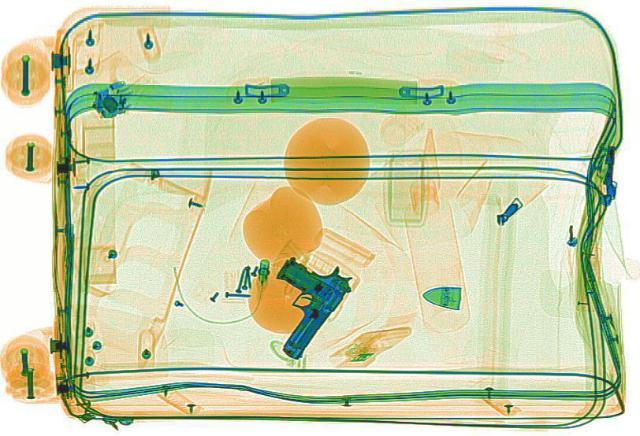Gun: (226, 252, 360, 359)
